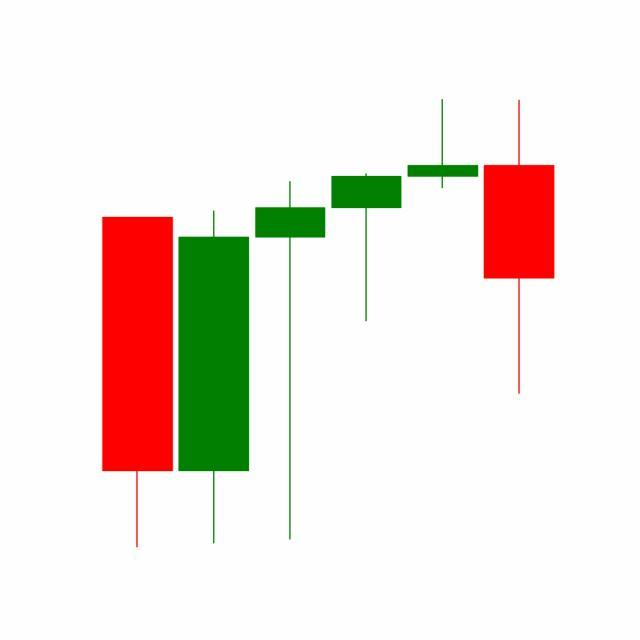Spinning Top: (404, 98, 482, 190)
